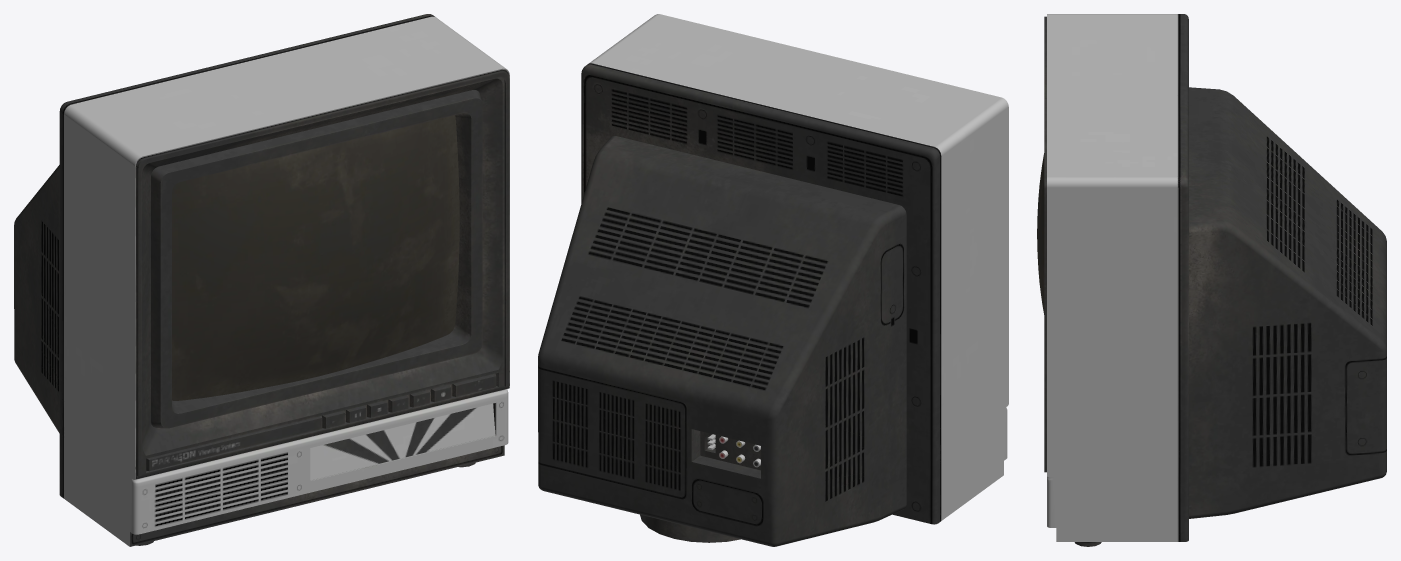
Rendered from television_02.glb.
3 renders of one model, left to right at view 1: azimuth 30°, elevation 25°; view 2: azimuth 150°, elevation 25°; view 3: azimuth 270°, elevation 25°, orthographic. The views are drawn at different scales.
Visible parts, largest first — view 1: television_02; view 2: television_02; view 3: television_02.
Boxes of the visible parts, box(x1,y1,x2,y2) form: television_02: box(14, 14, 509, 546); television_02: box(538, 14, 1008, 546); television_02: box(1037, 14, 1386, 546).
Bounding box in the file's own units: 0.3998 × 0.4114 × 0.3502.
Materials: 1 (1 with a texture image).
